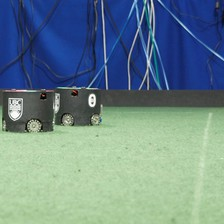robot: (1, 87, 54, 134), (53, 84, 102, 126)
